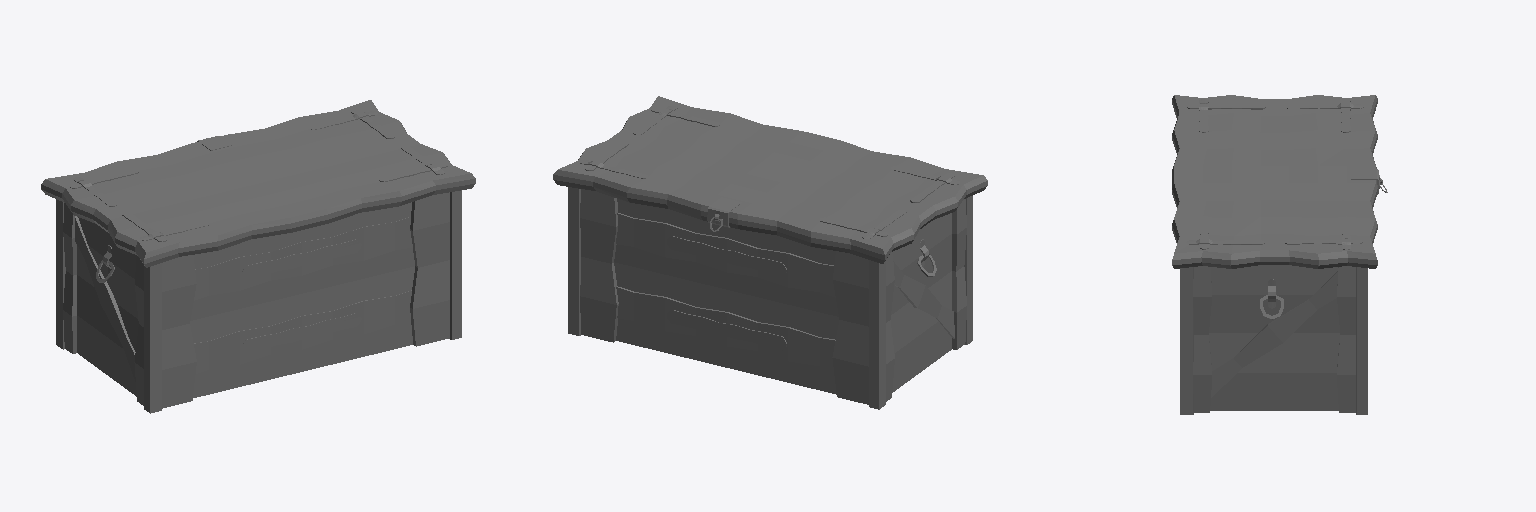
File: treasure_chest_low.obj
The picture shows the model from 3 angles: view 1: azimuth 30°, elevation 25°; view 2: azimuth 150°, elevation 25°; view 3: azimuth 270°, elevation 25°; orthographic projection.
Visible parts, largest first — view 1: chest_Low; view 2: chest_Low; view 3: chest_Low.
Part boxes in pixels (bbox=[...]): chest_Low: bbox=[41, 100, 475, 413]; chest_Low: bbox=[553, 96, 987, 409]; chest_Low: bbox=[1172, 95, 1387, 414].
Bounding box in the file's own units: 89.05 × 42.72 × 50.12.